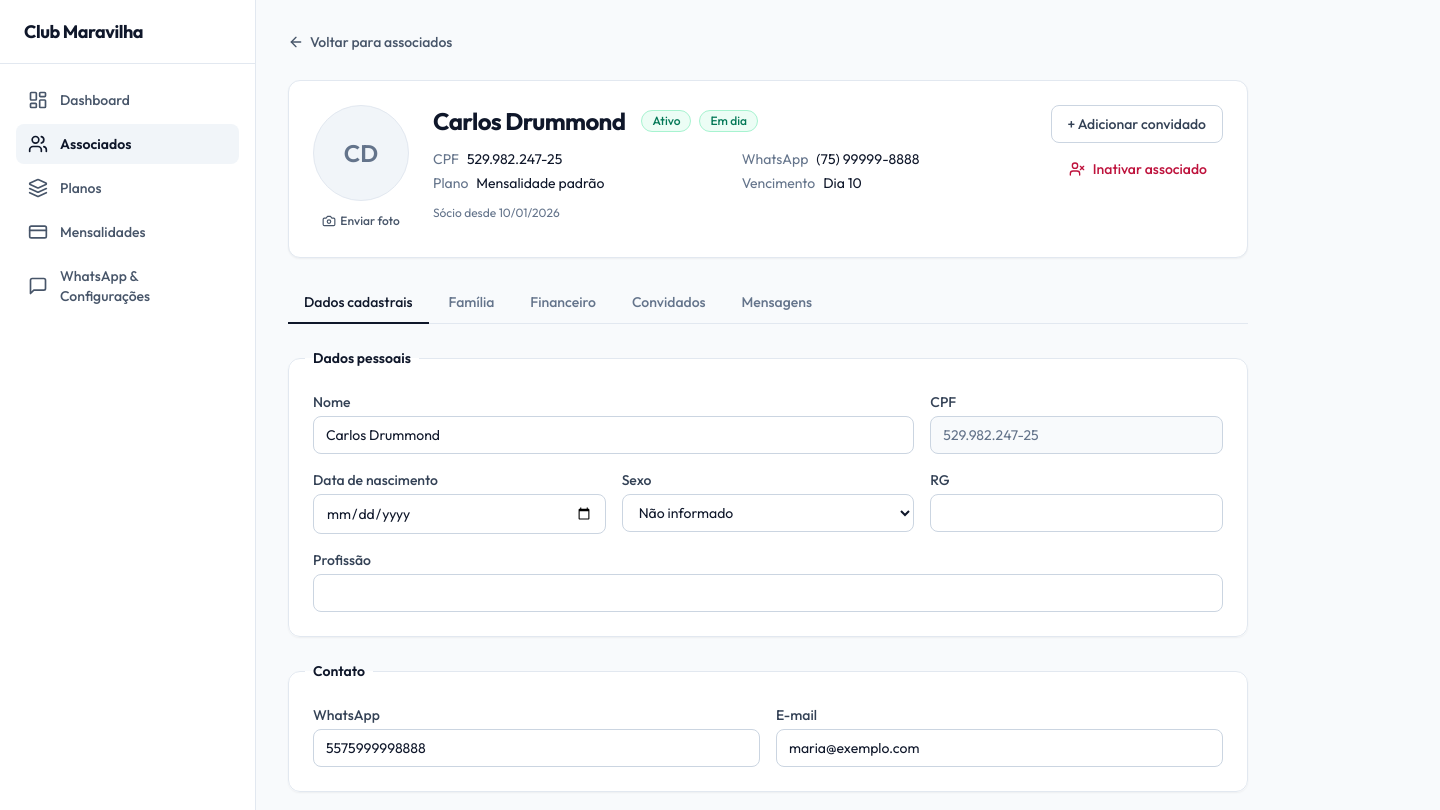
Test: AssociadosPage Review (Itens 12, 13 e 14) › Item 12: falha na inativação (500 com detail) exibe role="alert" e mantém o modal aberto
Click the button "Inativar associado" at (1138, 169), box [1053,151,1223,187]
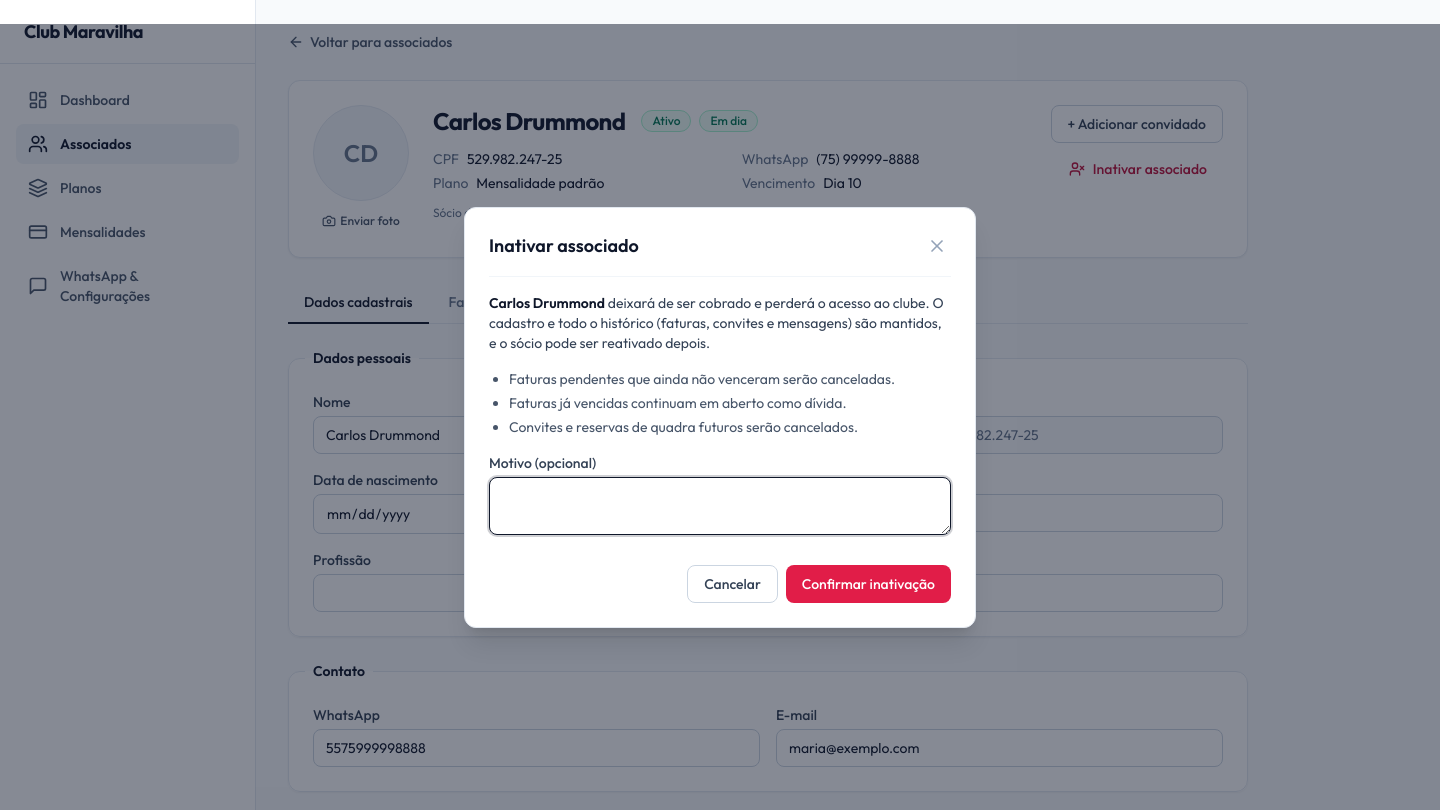
Click the button "Confirmar inativação" at (868, 584), box [786,564,951,602]
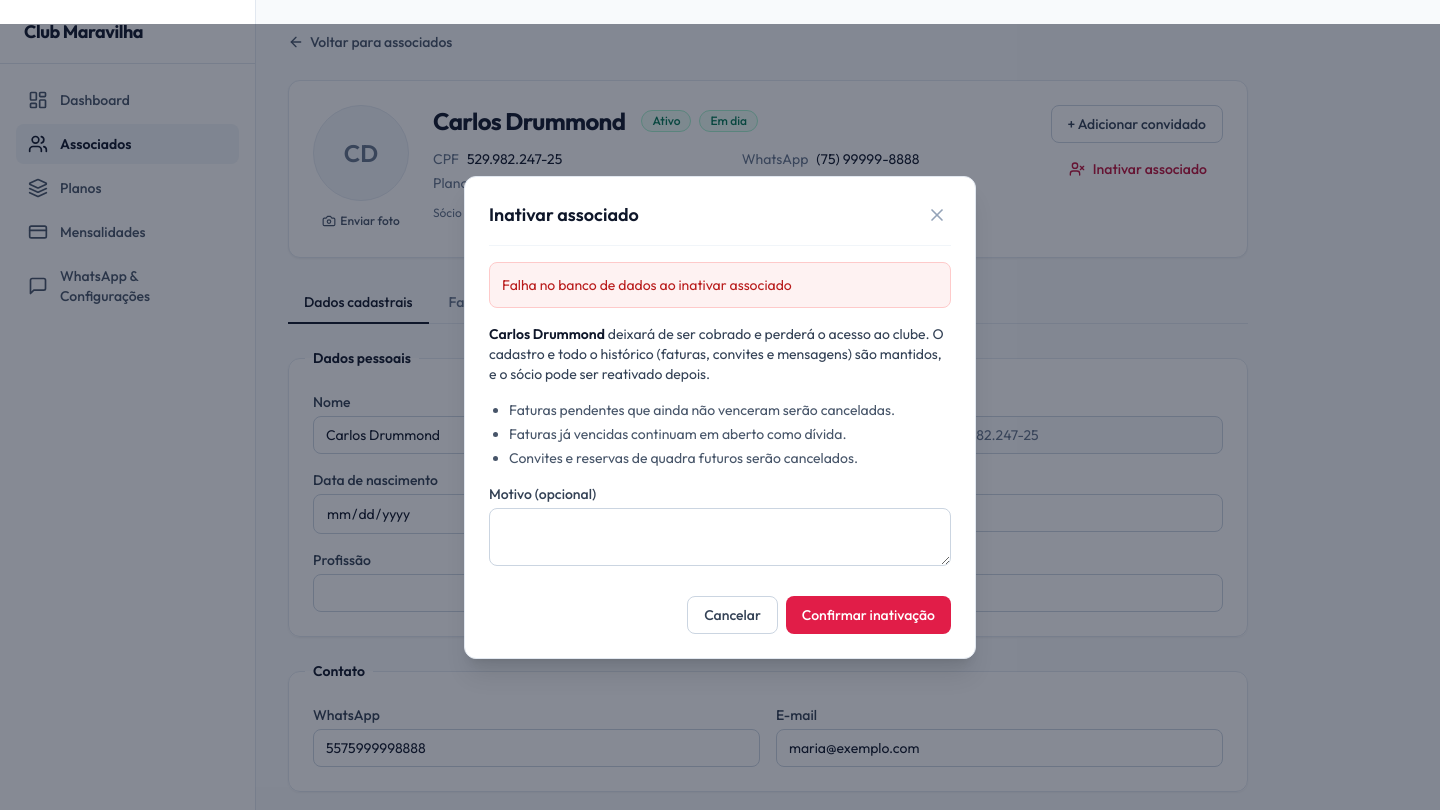
expect the dialog "Inativar associado" is shown: met
expect the message reads "Falha no banco de dados ao inativar associado": met, box [502,276,792,294]
